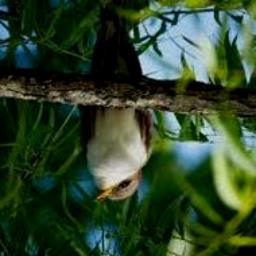Cuckoo: (82, 0, 154, 203)
